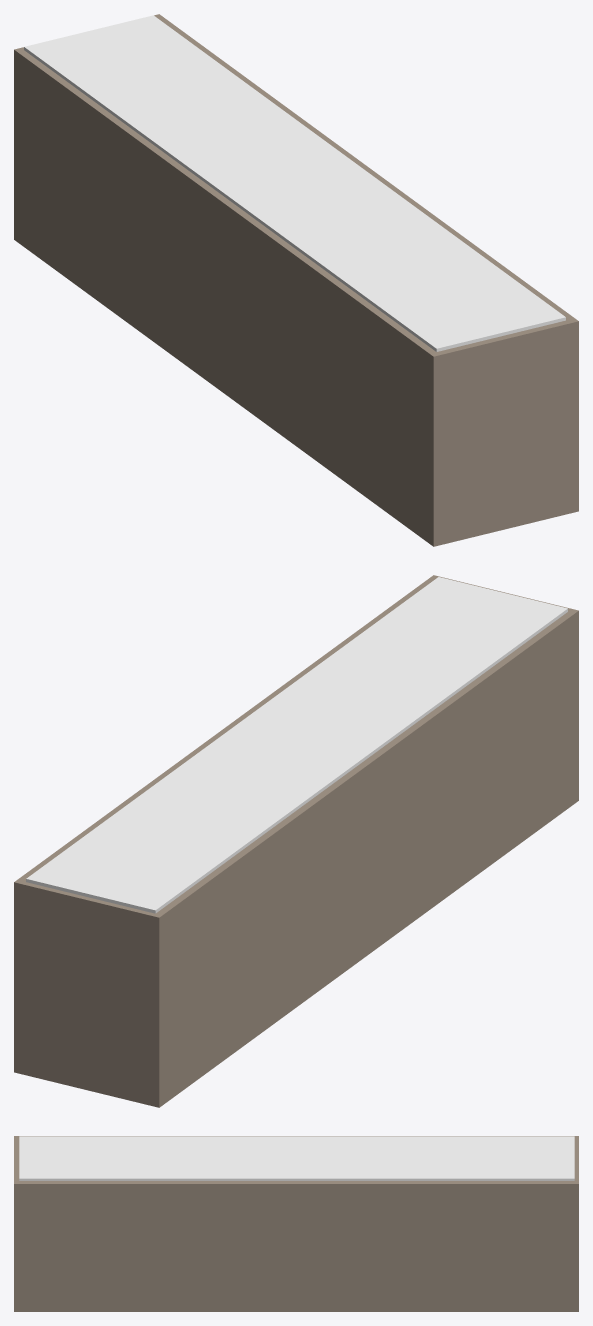
The model's file is modular_village_wood_baseboard.glb.
3 views of the same model, one above another, from view 1: azimuth 30°, elevation 25°; view 2: azimuth 150°, elevation 25°; view 3: azimuth 270°, elevation 25° (orthographic). The views are drawn at different scales.
Parts seen in each view (by area): view 1: object1, Cube; view 2: object1, Cube; view 3: object1, Cube.
Boxes of the visible parts, x1,y1,x2,y2 form: object1: (14,14,578,546); Cube: (24,15,565,351); object1: (14,575,578,1107); Cube: (26,577,567,913); object1: (14,1136,578,1311); Cube: (19,1136,574,1180).
Size of the model in its own units: 0.2 by 0.258 by 1.
